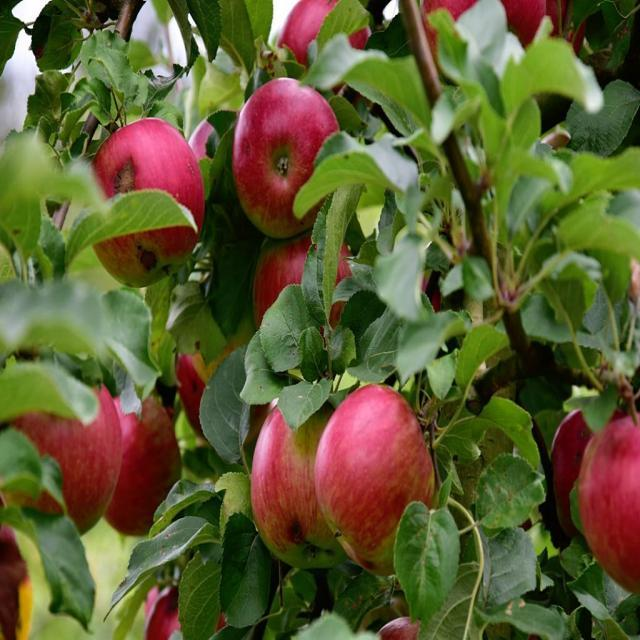Red Apple: (317, 389, 442, 562), (90, 131, 201, 268), (252, 410, 351, 560), (237, 92, 340, 223), (22, 388, 118, 528), (110, 395, 188, 528), (255, 239, 351, 338), (591, 417, 640, 569), (550, 404, 601, 526), (285, 1, 359, 76), (191, 115, 226, 207), (177, 350, 219, 423), (423, 1, 473, 59), (146, 591, 187, 638), (506, 1, 558, 38), (377, 612, 427, 640)
